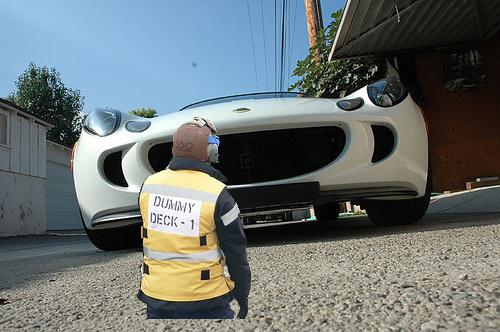tampered: (138, 118, 251, 319)
